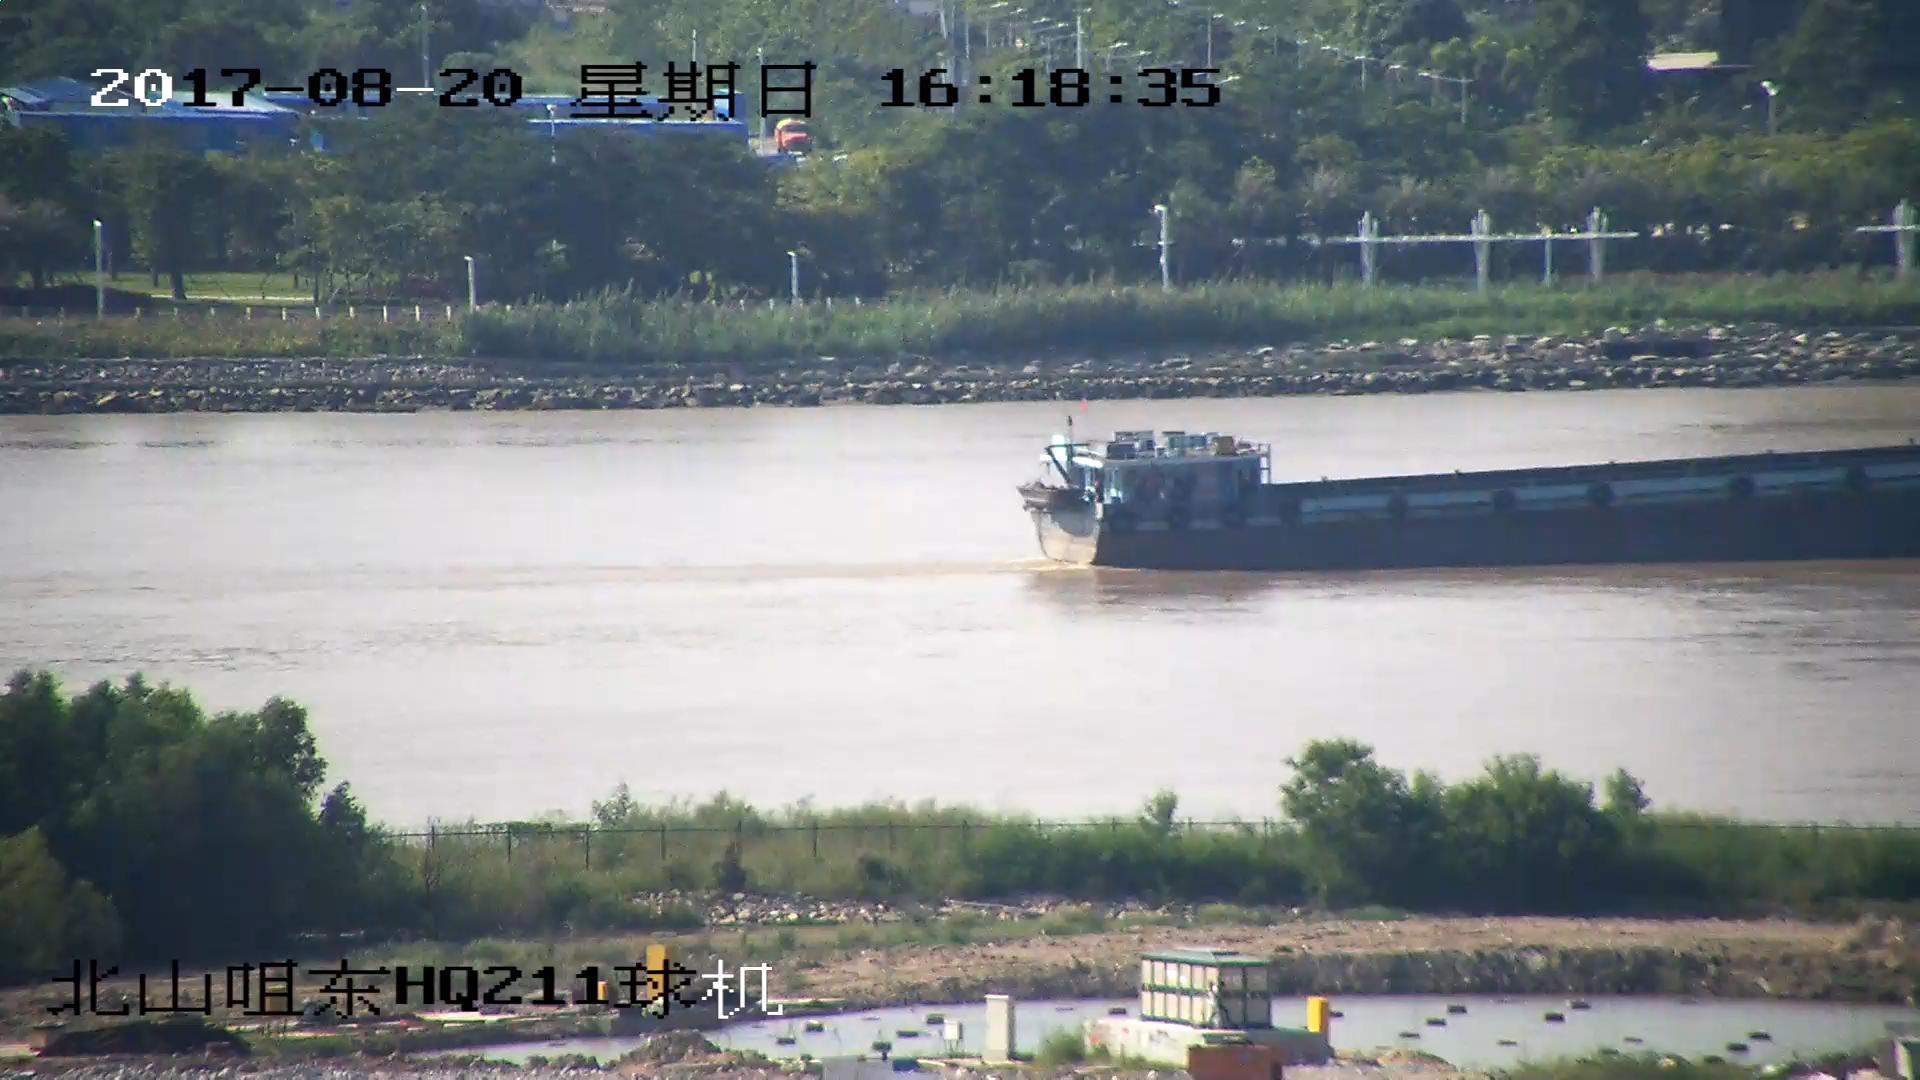Ship: (1029, 427, 1920, 564)
